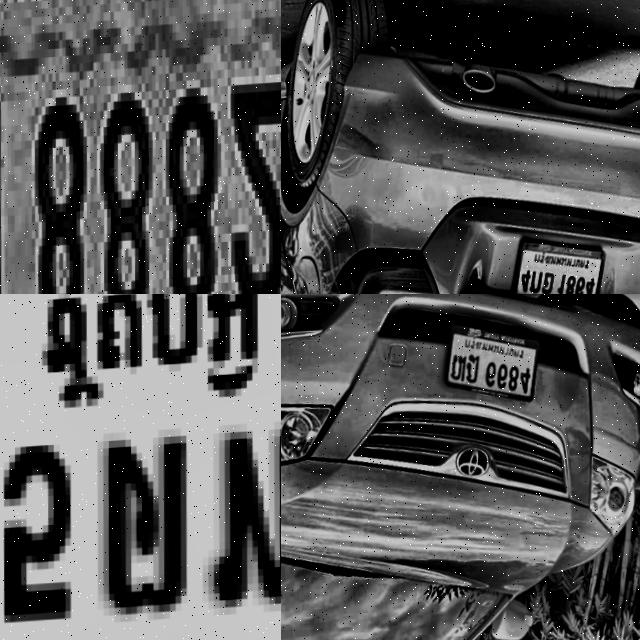license-plate: (0, 294, 281, 640), (0, 0, 281, 294), (442, 322, 542, 414), (507, 235, 611, 294)
